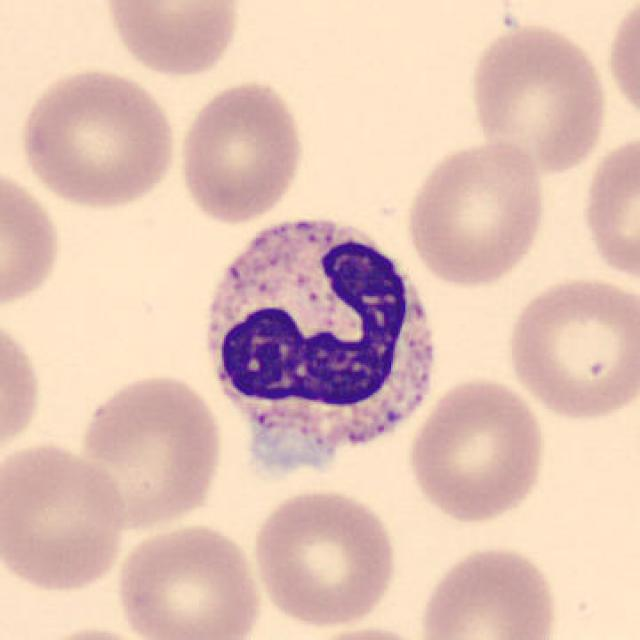Neutrophil: (190, 199, 450, 490)
RBC: (74, 368, 226, 532), (15, 64, 182, 212), (464, 20, 612, 176), (402, 136, 549, 289), (247, 485, 402, 629), (406, 372, 550, 525), (0, 437, 132, 596), (502, 271, 638, 425), (174, 76, 308, 226), (112, 520, 265, 640), (414, 541, 564, 640), (95, 0, 245, 79), (0, 160, 66, 318), (578, 129, 640, 289), (0, 308, 44, 472), (604, 2, 640, 130), (21, 622, 169, 640)
